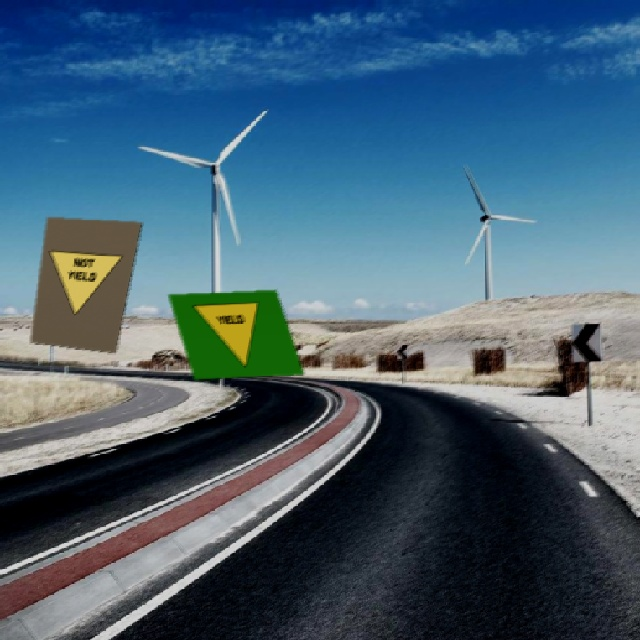NOT_YIELD: (40, 247, 125, 319)
YIELD: (193, 298, 280, 369)
